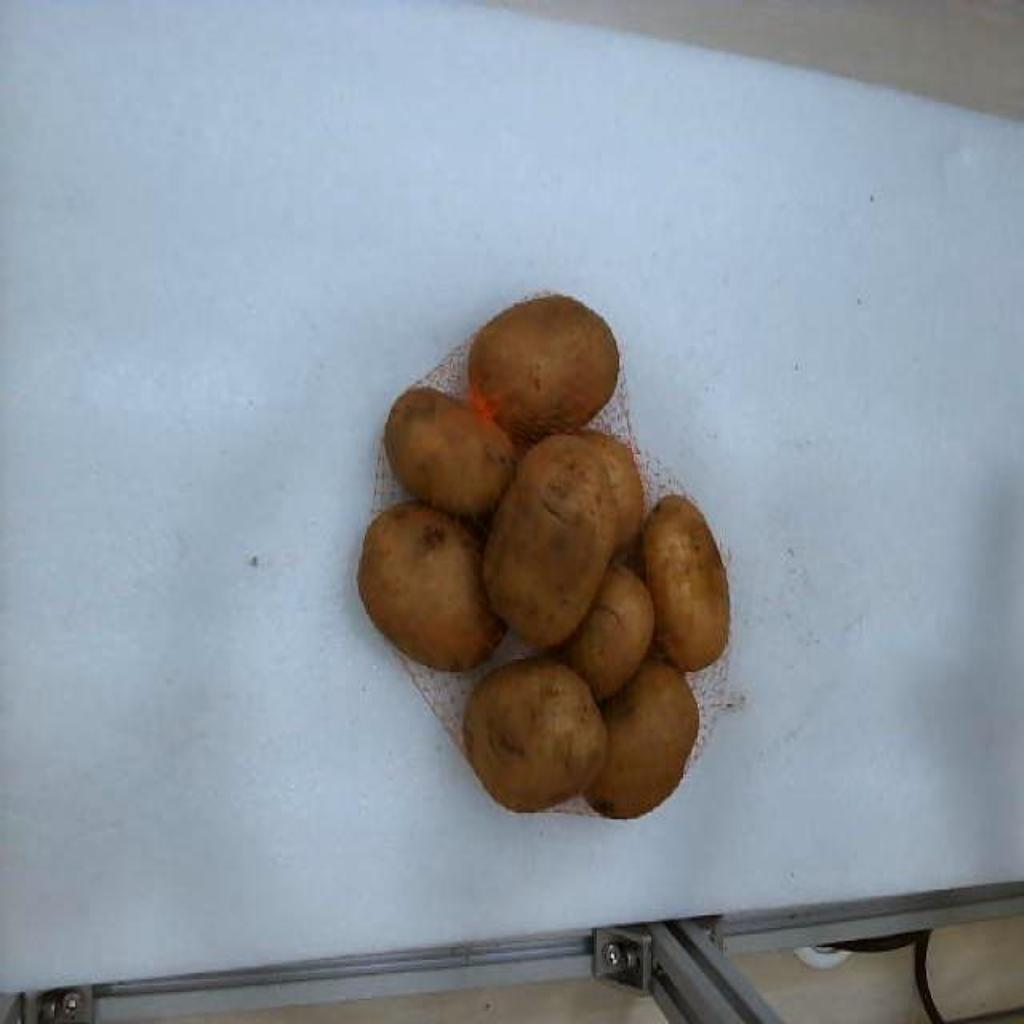potato: (484, 432, 644, 647), (358, 501, 506, 671), (468, 293, 620, 441), (464, 659, 608, 812), (586, 659, 698, 817), (384, 387, 516, 515), (642, 496, 728, 671), (562, 565, 654, 700)
